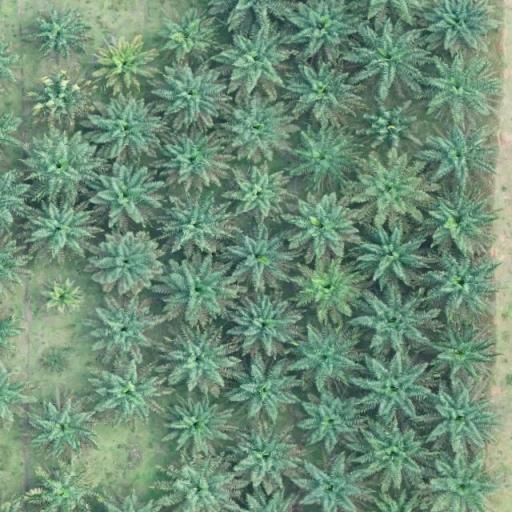Ganoderma: (95, 42, 154, 86)
